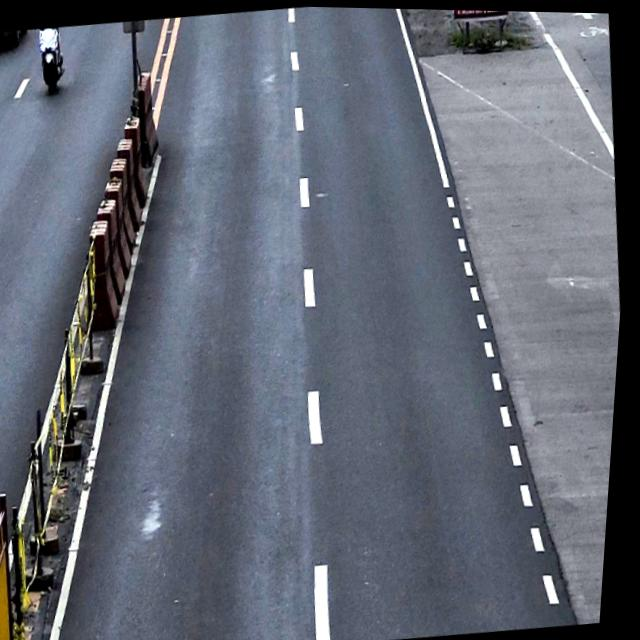Motorcycle: (34, 26, 70, 95)
